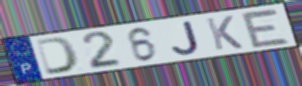2: (80, 30, 125, 71)
6: (126, 26, 160, 62)
D: (34, 35, 81, 76)
E: (238, 8, 293, 50)
J: (171, 19, 203, 56)
K: (203, 14, 245, 52)
